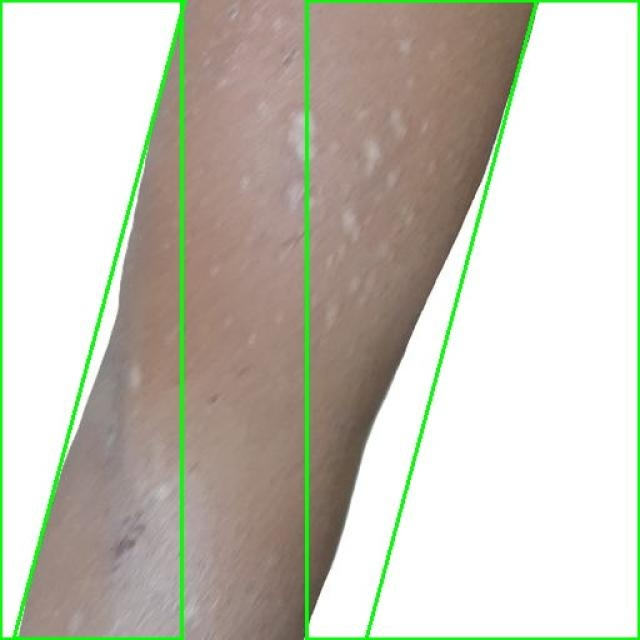Scabies: (14, 0, 538, 640), (306, 0, 639, 639), (0, 0, 181, 639)
